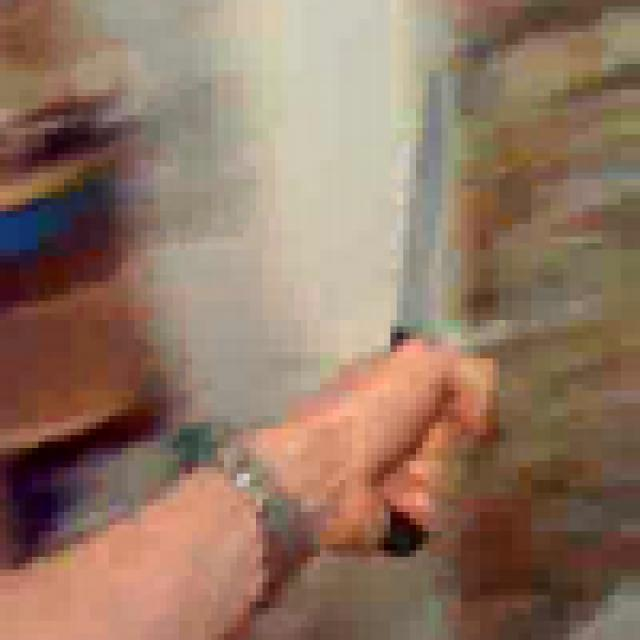knife: (333, 32, 499, 551)
